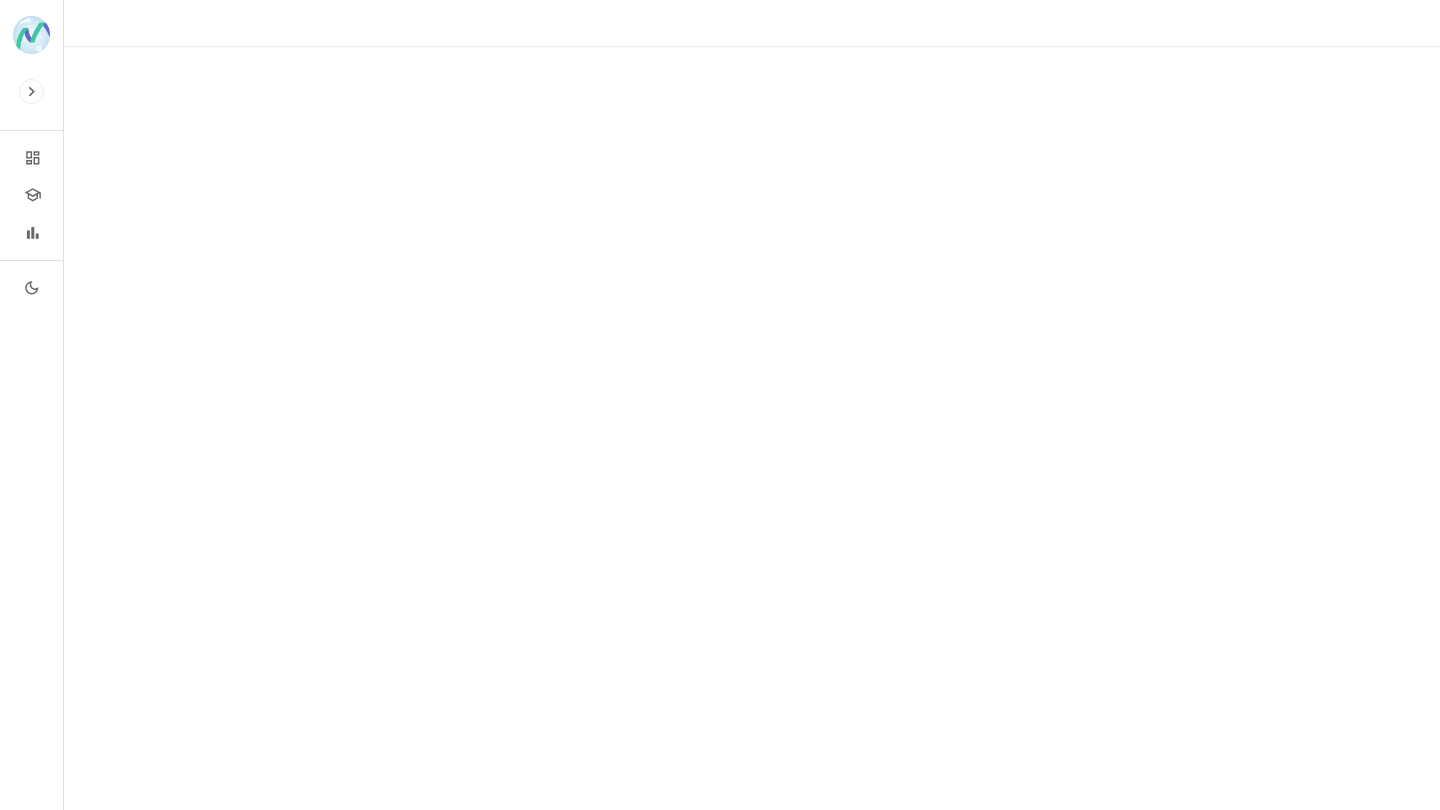
Test case: MenuBar mini drawer (md up to xl) › collapses the expanded drawer from its arrow
Click the button named "Expand menu". click: x=32, y=91
box: [19,79,44,104]
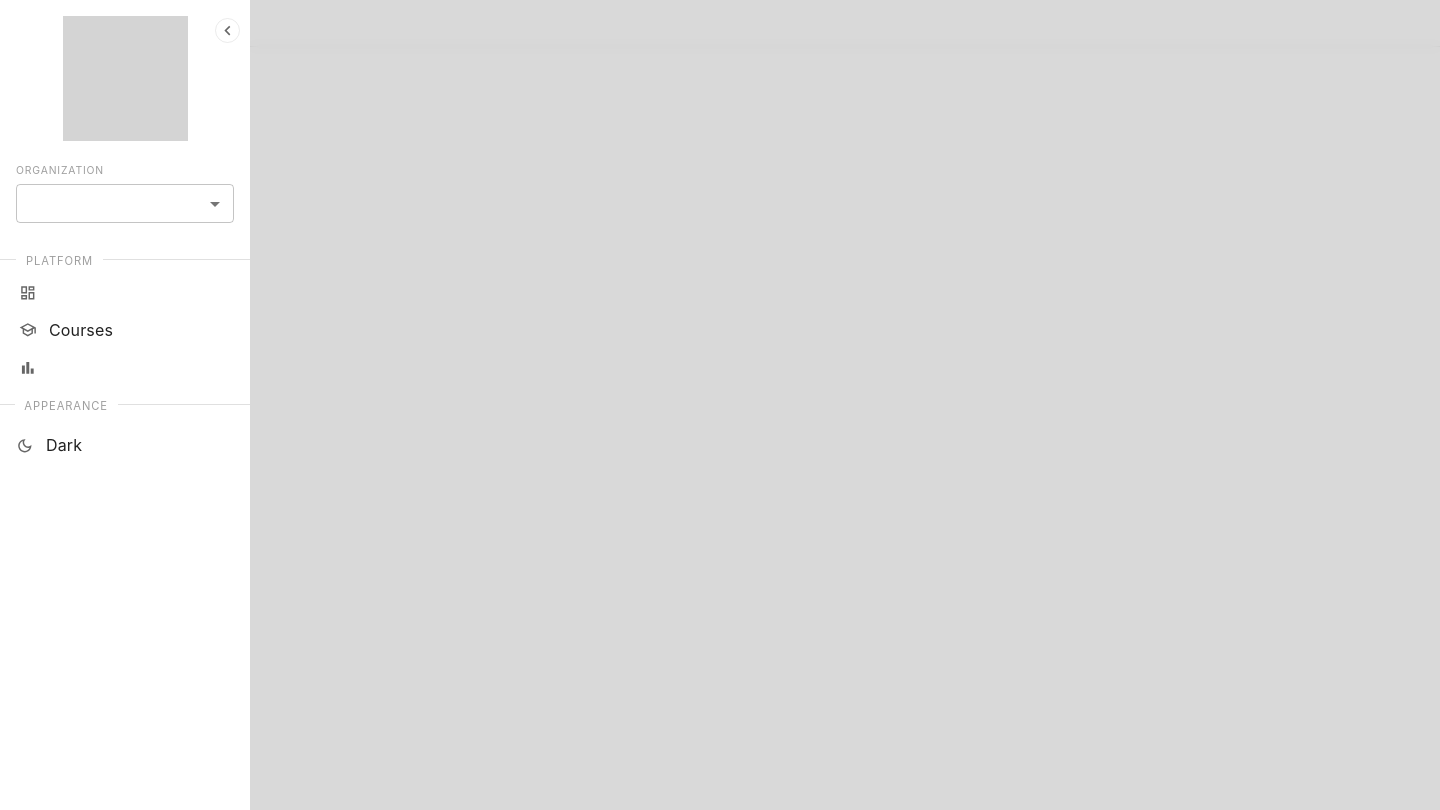
Click the button named "Collapse menu". click: x=227, y=31
box: [215,18,240,43]
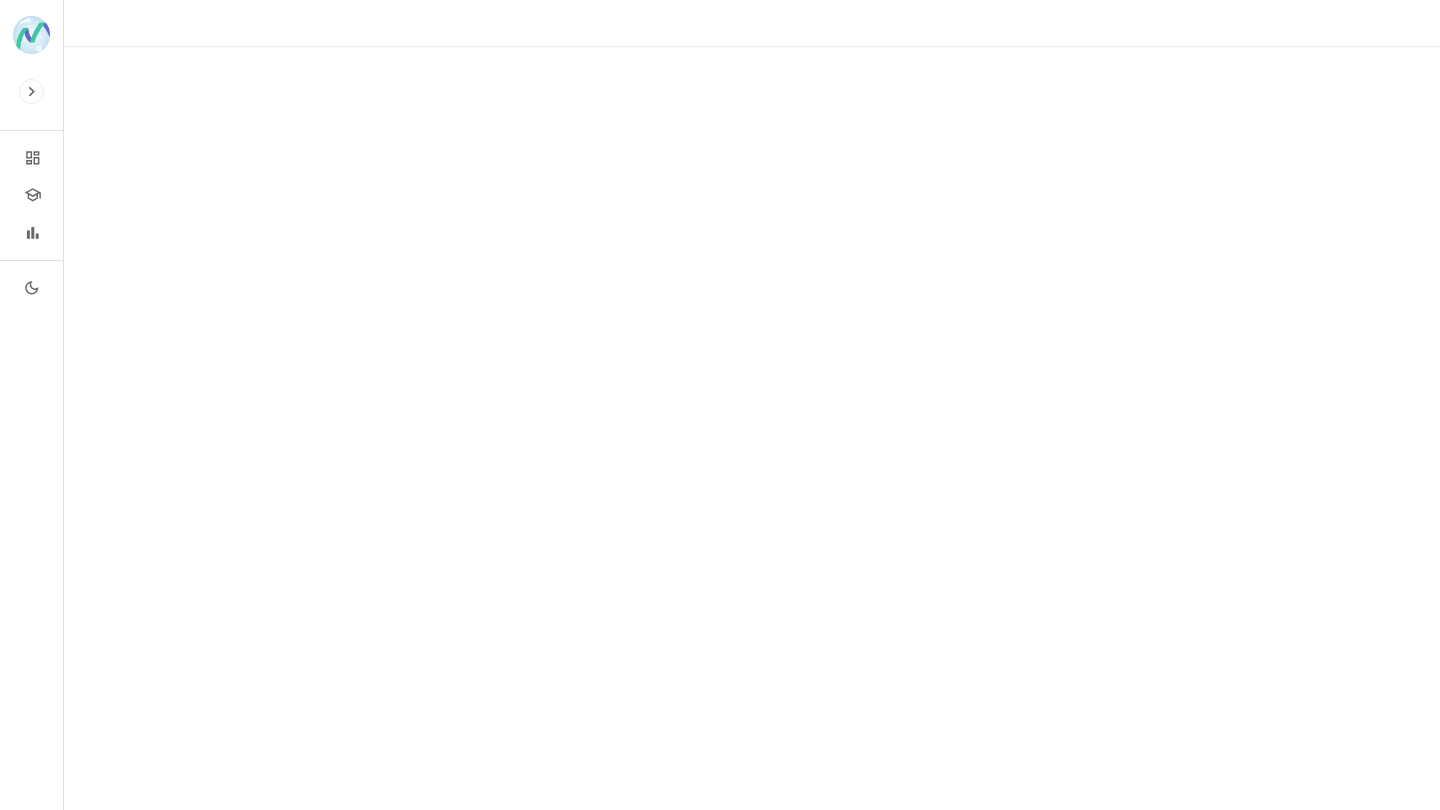
Check: the link "Courses" is gone
